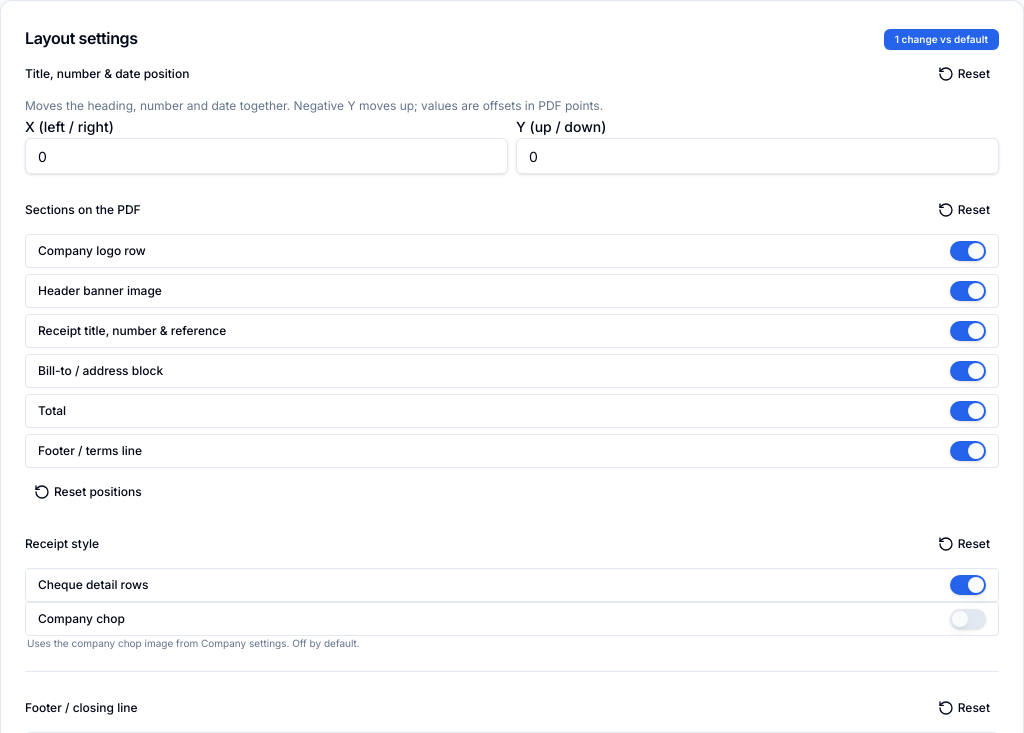
Test: clamps entered positions to the real unbranded page edge
Replace the text in the number field labelled "Y (up / down)" with "-200". click: (758, 156)
box: [516,138,999,174]
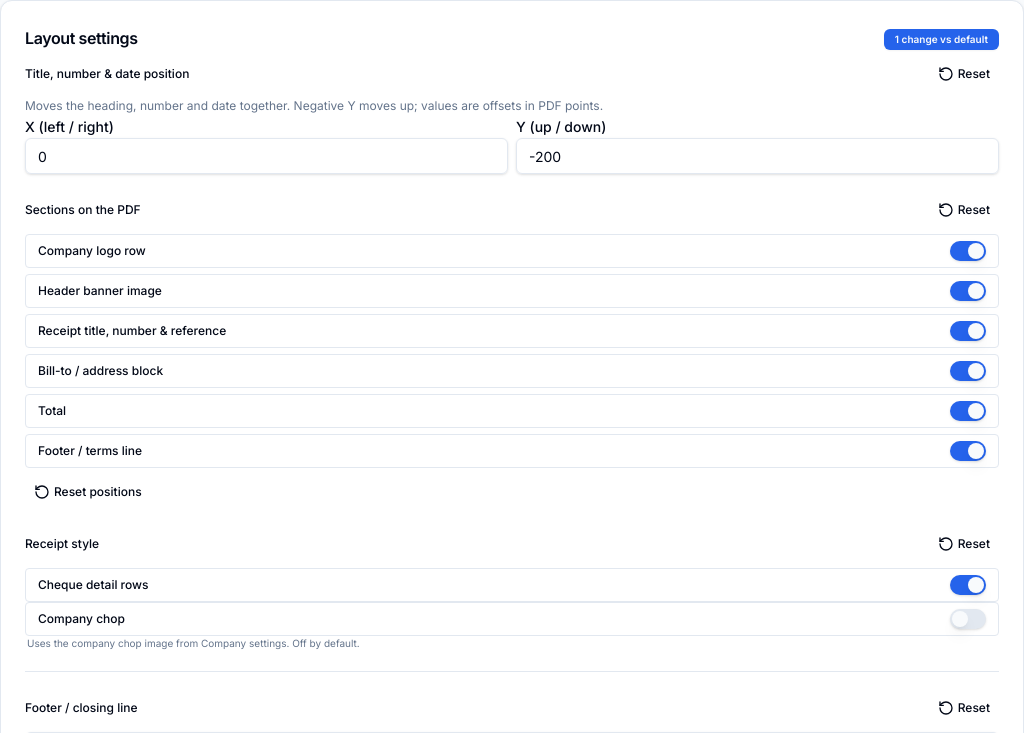
Leave the number field labelled "Y (up / down)", box [516,138,999,174]
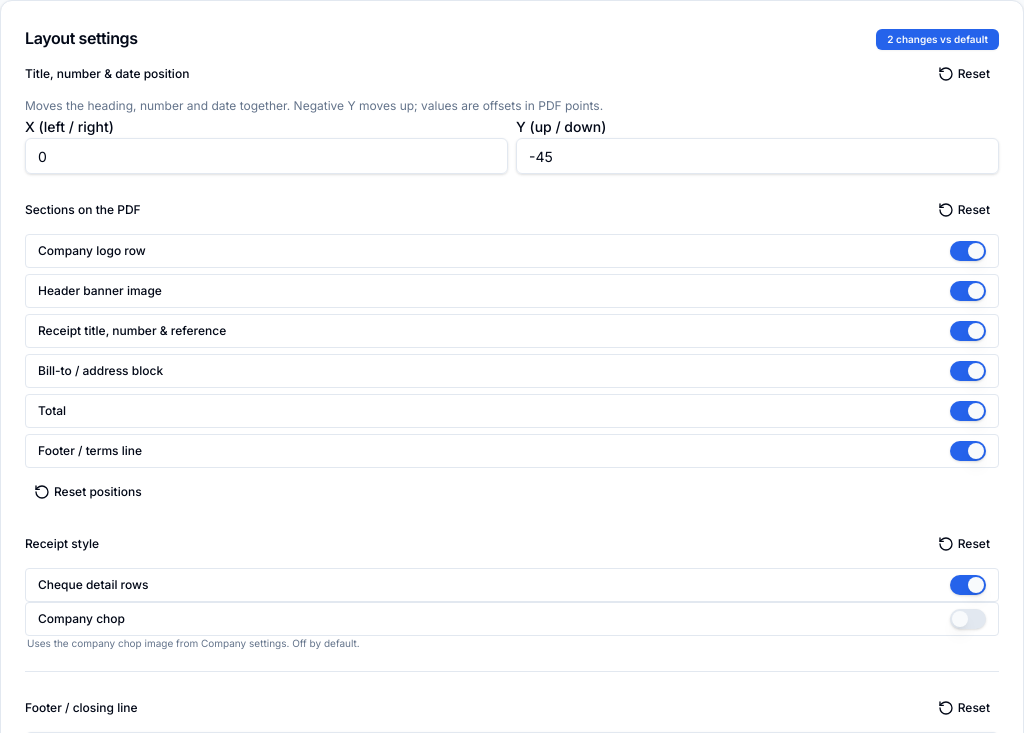
Now the number field labelled "Y (up / down)" holds "-45", box [516,138,999,174]
